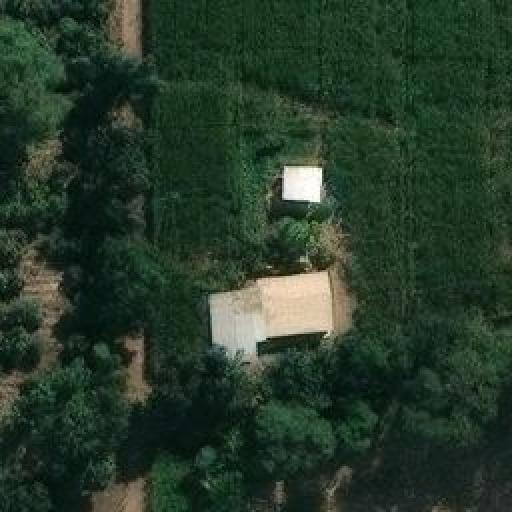manzanas: (200, 163, 336, 365)
